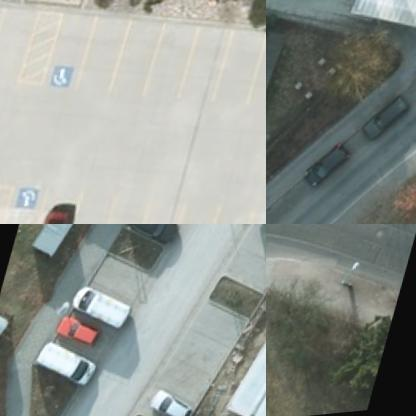car: (365, 90, 415, 148), (309, 137, 357, 195), (53, 309, 114, 350), (126, 224, 185, 249), (149, 387, 201, 415), (36, 207, 79, 223)
van: (31, 336, 108, 400), (68, 280, 148, 336)
